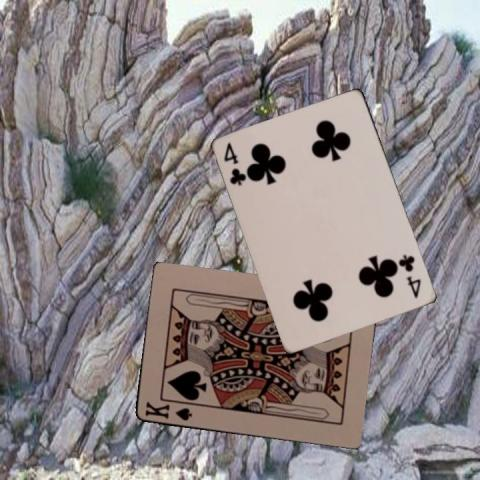4c: (221, 139, 248, 188), (396, 251, 422, 300)
Ks: (142, 398, 193, 422)
